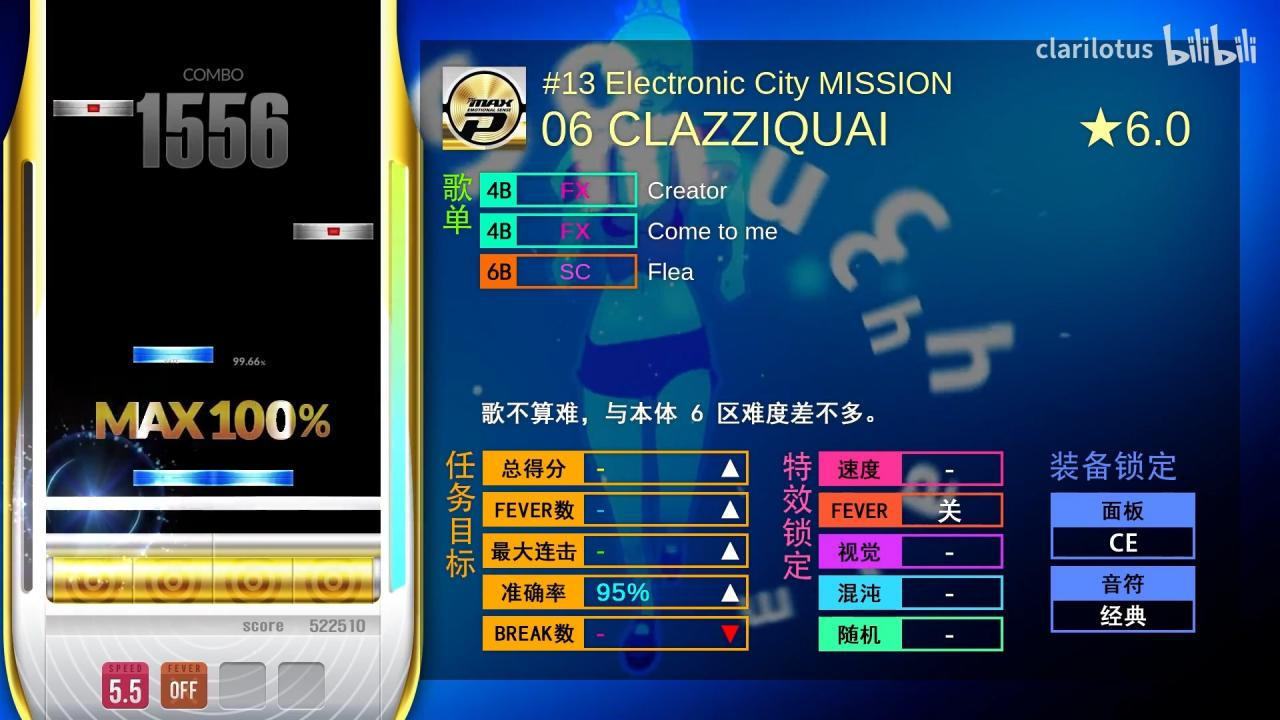note: (53, 99, 133, 117), (294, 222, 374, 240), (134, 346, 214, 364), (134, 470, 215, 486), (214, 470, 294, 486)
